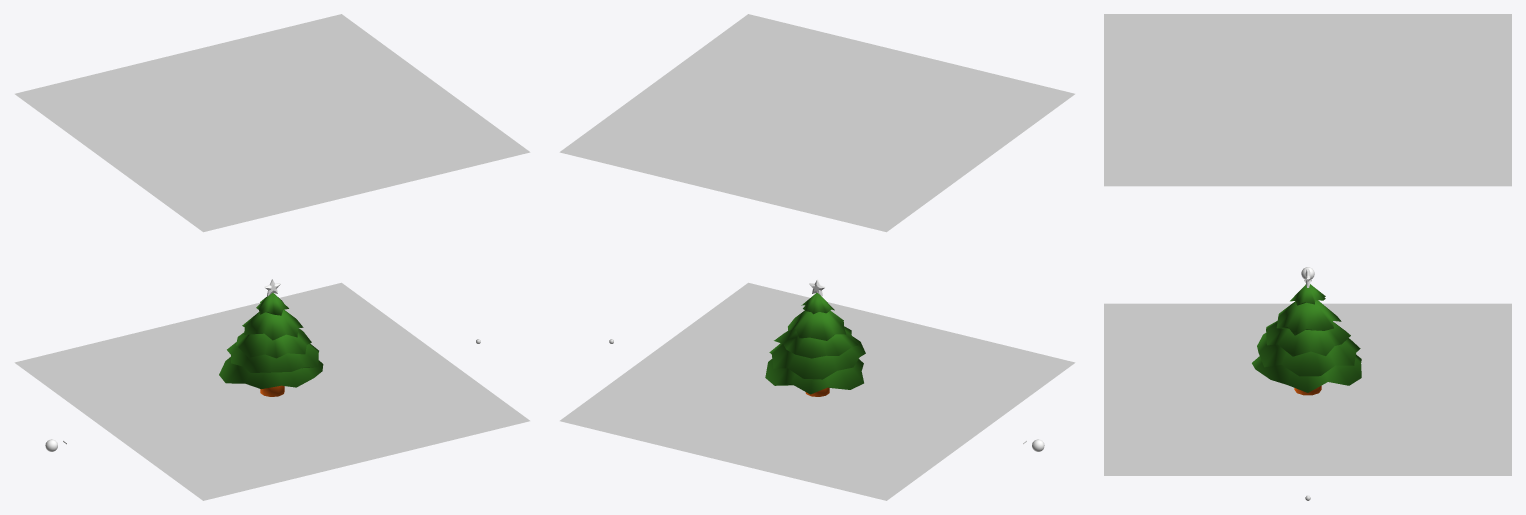
Rendered from bozic.glb.
3 renders of one model, left to right at view 1: azimuth 30°, elevation 25°; view 2: azimuth 150°, elevation 25°; view 3: azimuth 270°, elevation 25°, orthographic. The views are drawn at different scales.
Parts seen in each view (by area): view 1: nebo, Plane, Cone.000, Cone.001, Cone.002, Cone.003; view 2: nebo, Plane, Cone.001, Cone.000, Cone.002, Cone.003; view 3: nebo, Plane, Cone.001, Cone.002, Cone.000, Cone.003.
Part boxes in pixels (<box>): nebo: <box>15,14,530,232</box>; Plane: <box>14,282,529,500</box>; Cone.000: <box>219,357,323,389</box>; Cone.001: <box>227,342,318,372</box>; Cone.002: <box>236,328,311,358</box>; Cone.003: <box>242,310,303,340</box>; nebo: <box>559,14,1074,232</box>; Plane: <box>560,282,1075,500</box>; Cone.001: <box>769,336,865,379</box>; Cone.000: <box>765,359,863,394</box>; Cone.002: <box>774,326,858,358</box>; Cone.003: <box>788,310,846,340</box>; nebo: <box>1104,14,1511,186</box>; Plane: <box>1104,303,1511,475</box>; Cone.001: <box>1257,333,1360,376</box>; Cone.002: <box>1266,321,1350,356</box>; Cone.000: <box>1252,354,1361,392</box>; Cone.003: <box>1276,300,1341,335</box>.
Size of the model in its own units: 3.98 by 2.4 by 3.
